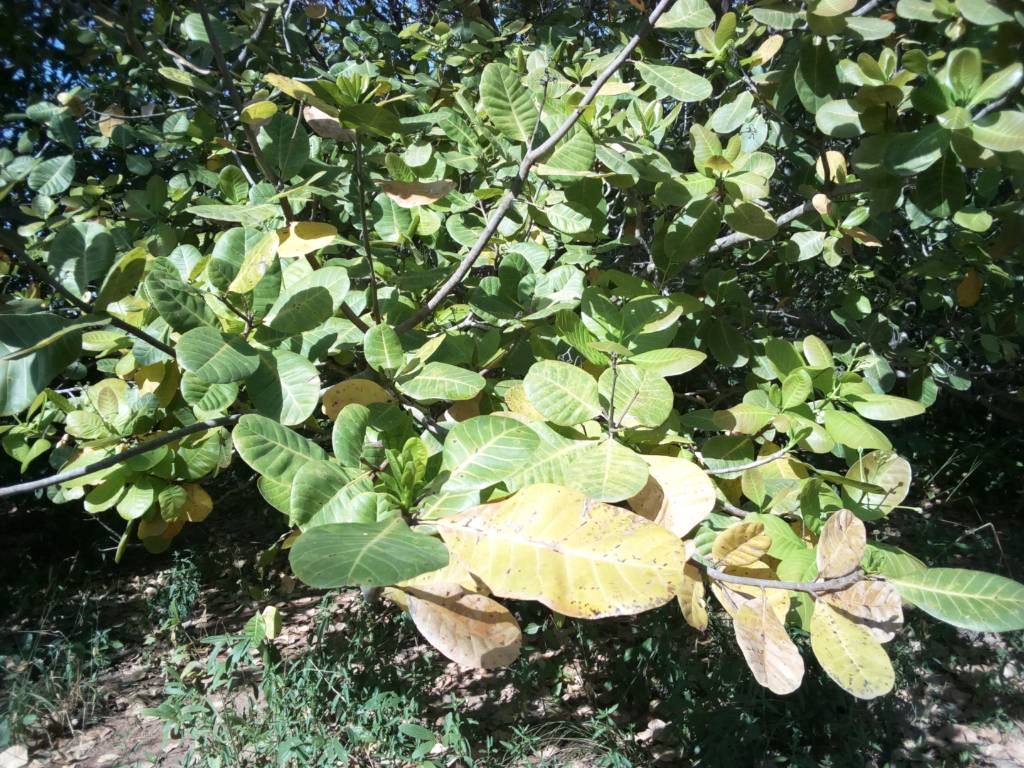Anthracnose: (442, 484, 685, 619), (409, 587, 523, 671), (813, 604, 895, 701), (733, 590, 804, 694), (259, 266, 352, 333), (809, 505, 867, 579)
